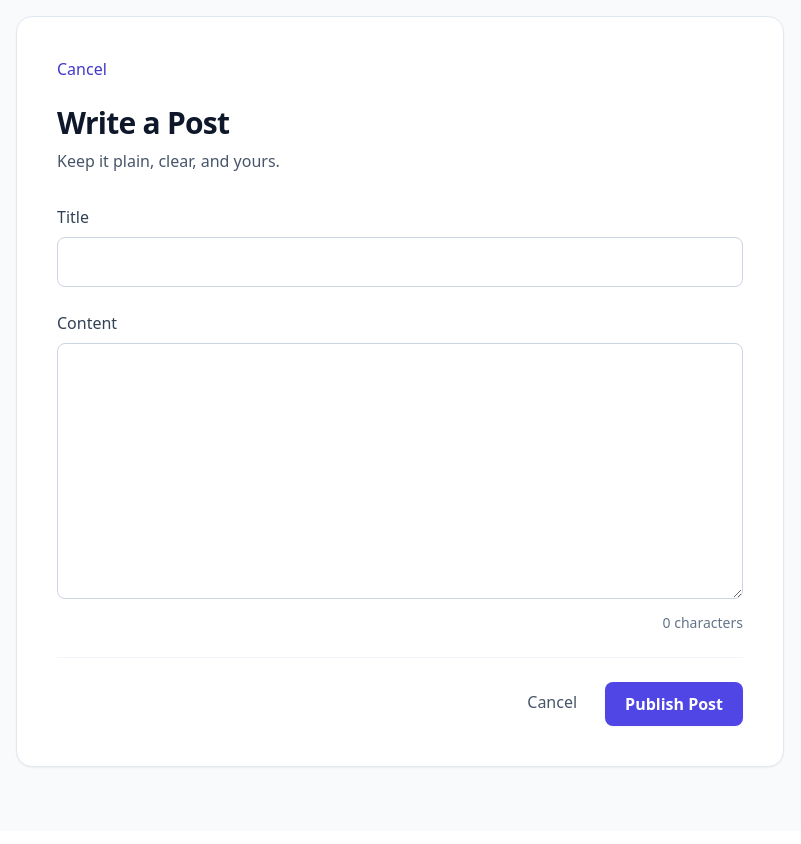
Scenario: post editor › shows a save error and preserves the form when creating a post cannot be saved
In the field labelled "Title": point(400, 262) [57,237,743,287], type "Unsaved thought"
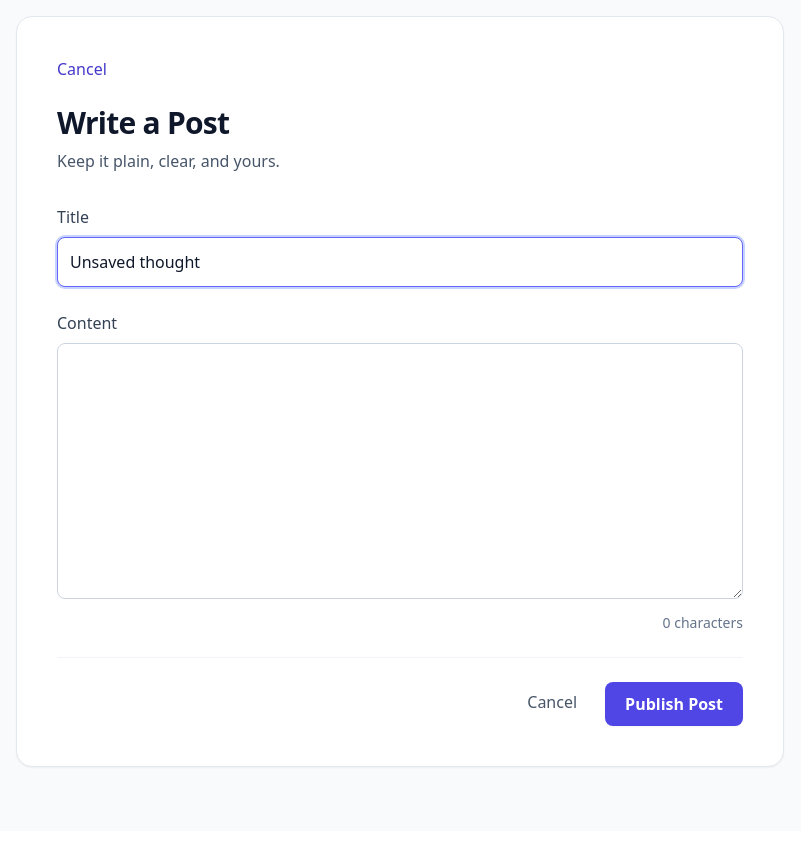
In the text box labelled "Content": point(400, 471) [57,343,743,599], type "This should remain in the form."
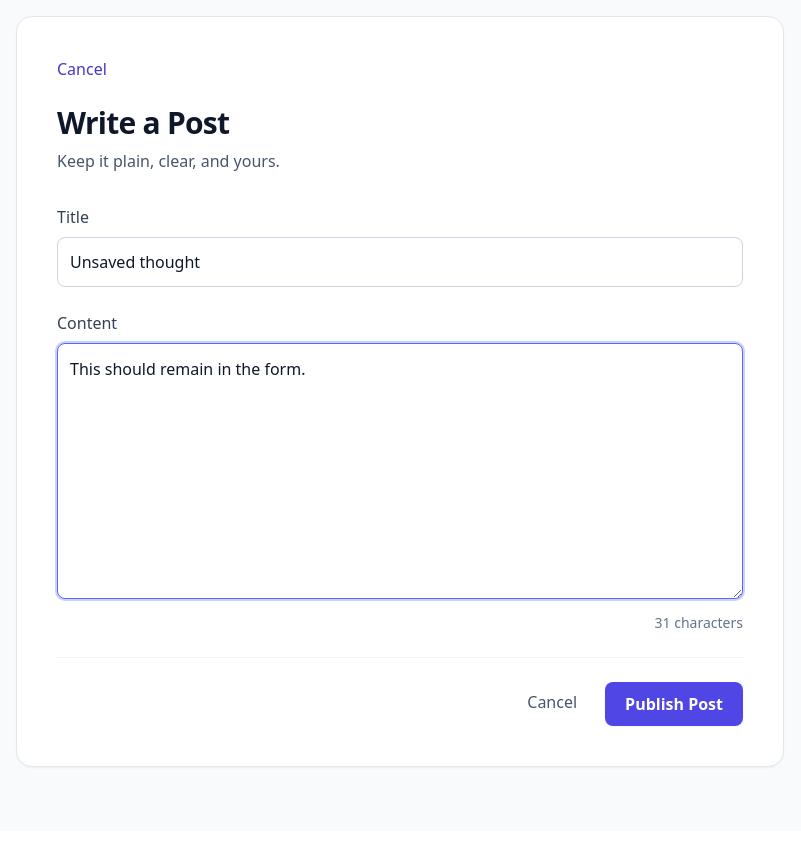
Click the button "Publish Post": point(674, 704) [605,682,743,726]
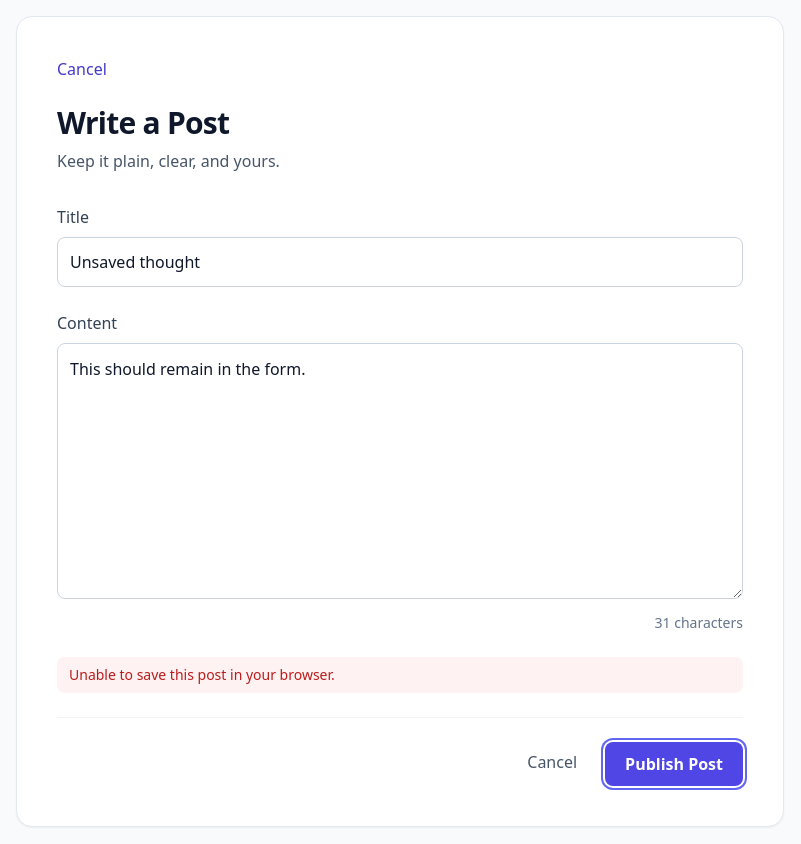
Expected: the message reads "Unable to save this post in your browser.", [69,665,335,684]
